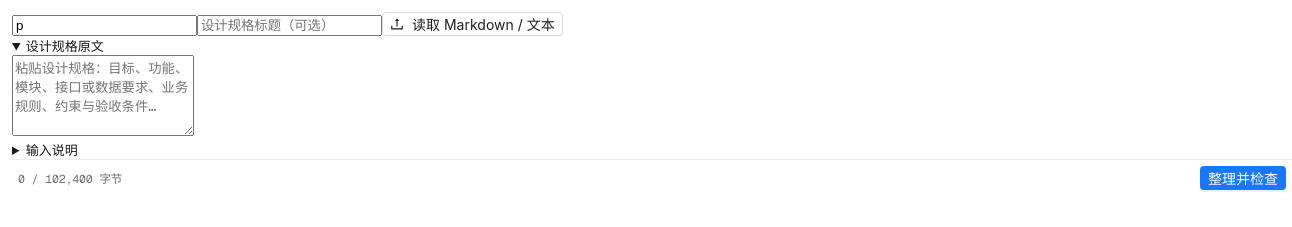
Test: DesignSpecInput upload and local validation › ignores a second organize click while the first import is in flight
Later steps or results of the test are not shown.
Type "目标：学生查看空闲座位。" into the text box named "设计规格原文". click: (103, 96)
box: top-left (12, 55), bottom-right (194, 136)
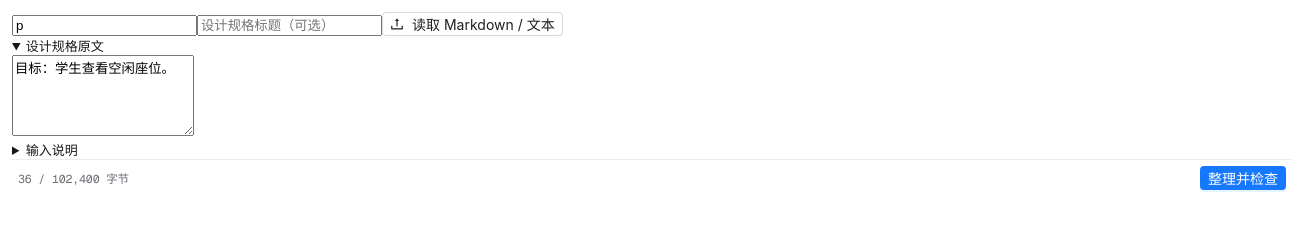
Click the button "整理并检查". click: click(1243, 178)
box: top-left (1200, 166), bottom-right (1286, 190)
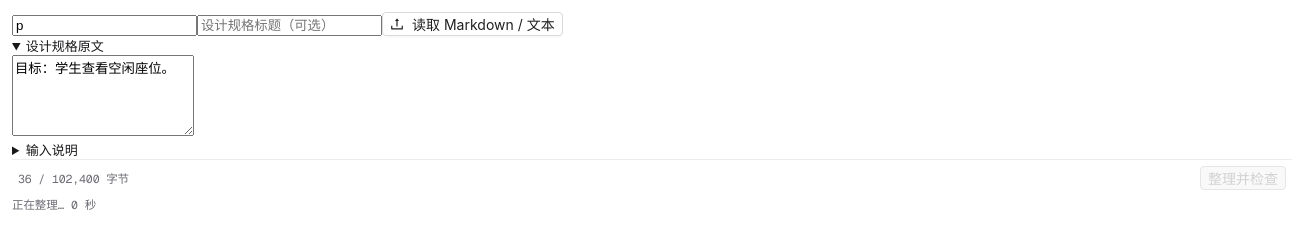
Now the button "整理并检查" is disabled, box top-left (1200, 166), bottom-right (1286, 190)
